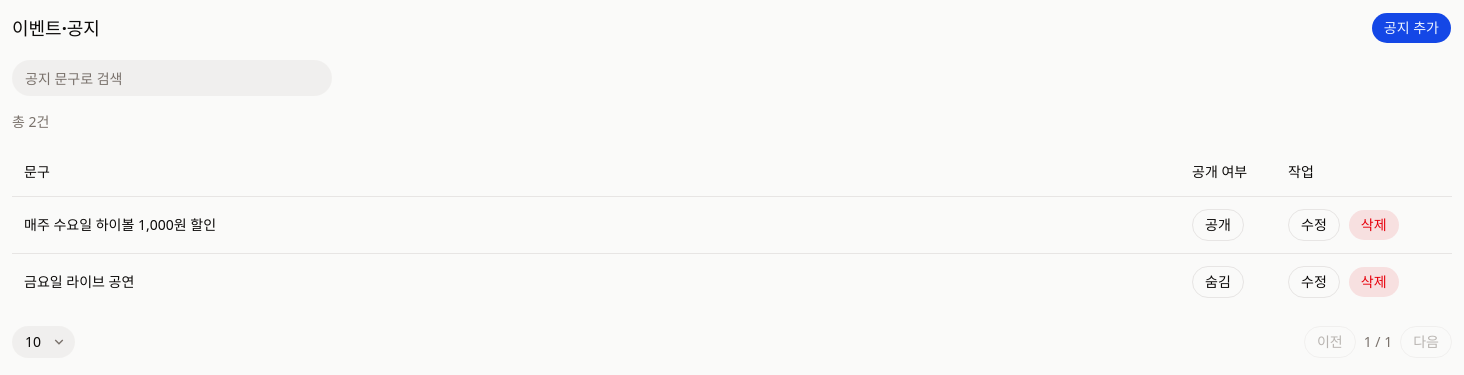
Test case: NoticeManagementPage › filters the notice table by text
The image size is (1464, 375).
Type "라이브" into the search field with placeholder "공지 문구로 검색" at (172, 78), box [12,60,332,96]
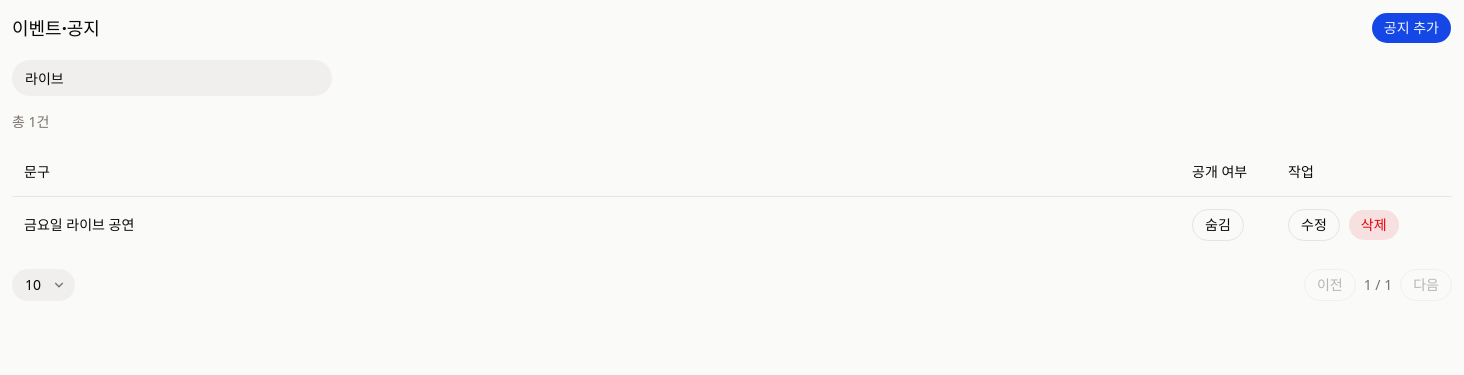
Expected: the text "금요일 라이브 공연" is shown, [12,196,1180,252]
Now the text "매주 수요일 하이볼 1,000원 할인" is gone
